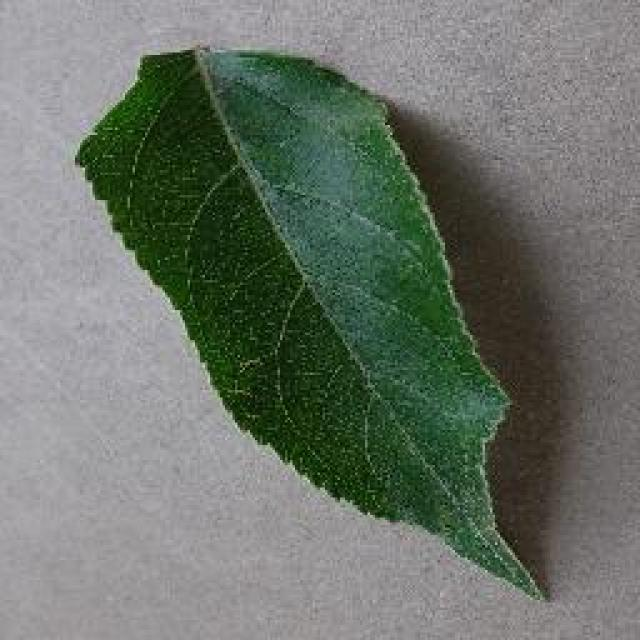apple healthy: (72, 40, 550, 600)
